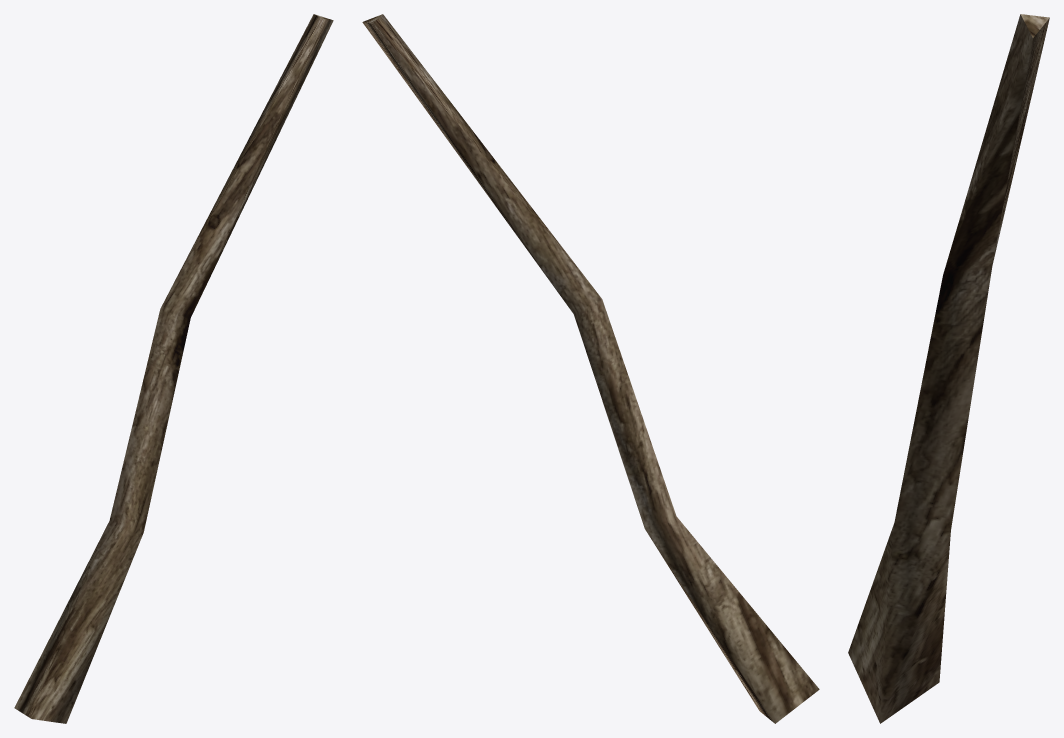
Rendered from MEP_DTree_03_p_d.fbx.
3 renders of one model, left to right at view 1: azimuth 30°, elevation 25°; view 2: azimuth 150°, elevation 25°; view 3: azimuth 270°, elevation 25°, orthographic. The views are drawn at different scales.
Parts seen in each view (by area): view 1: MEP_DTree_03_d; view 2: MEP_DTree_03_d; view 3: MEP_DTree_03_d.
Boxes of the visible parts, x1=… form: MEP_DTree_03_d: x1=14, y1=14, x2=333, y2=723; MEP_DTree_03_d: x1=362, y1=14, x2=819, y2=723; MEP_DTree_03_d: x1=848, y1=14, x2=1049, y2=723.
Bounding box in the file's own units: 1.51 × 2.4 × 0.4667.
